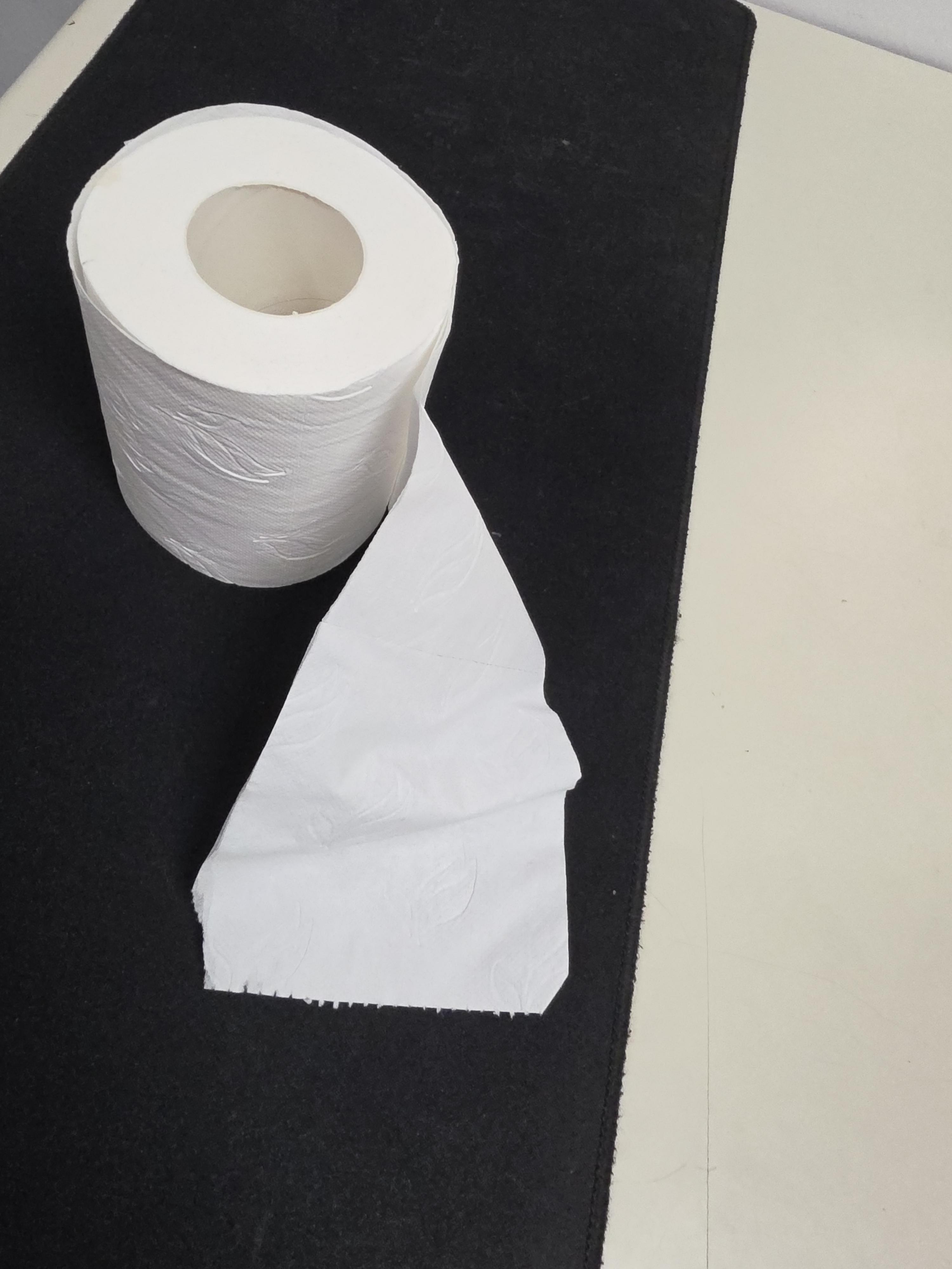tissue: (64, 103, 582, 1017)
